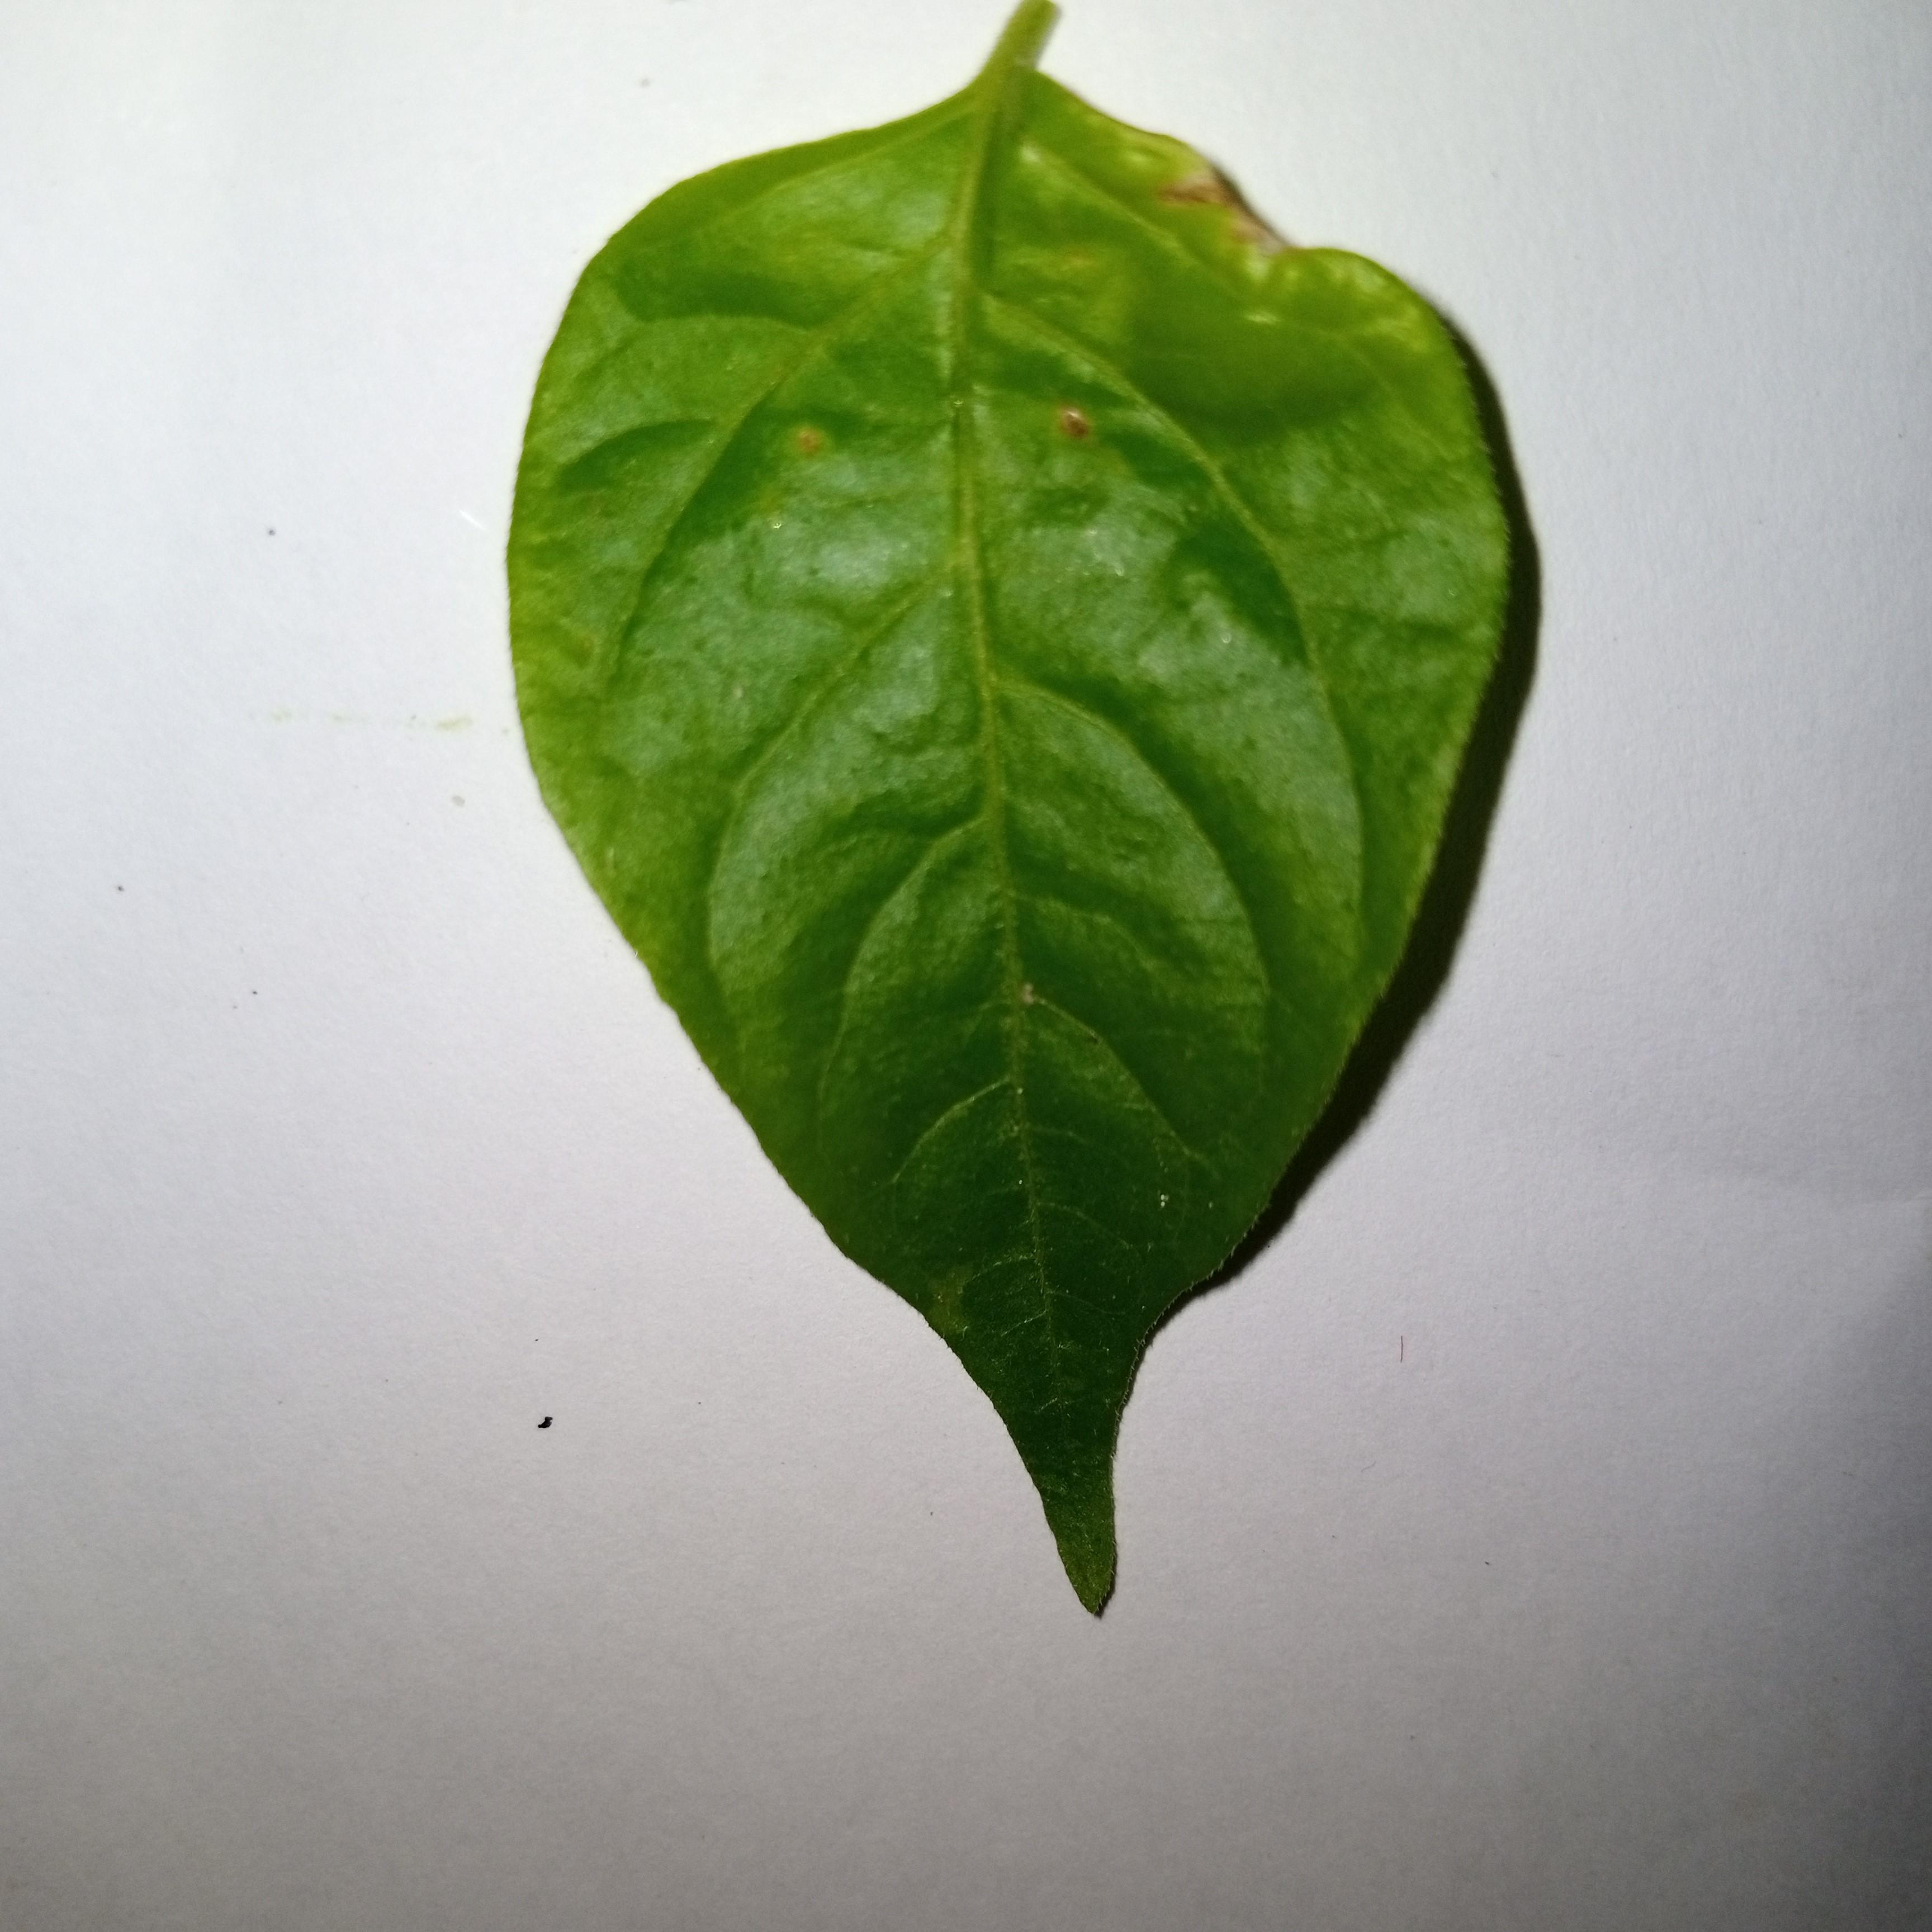Leaf: (327, 39, 1637, 1727)
